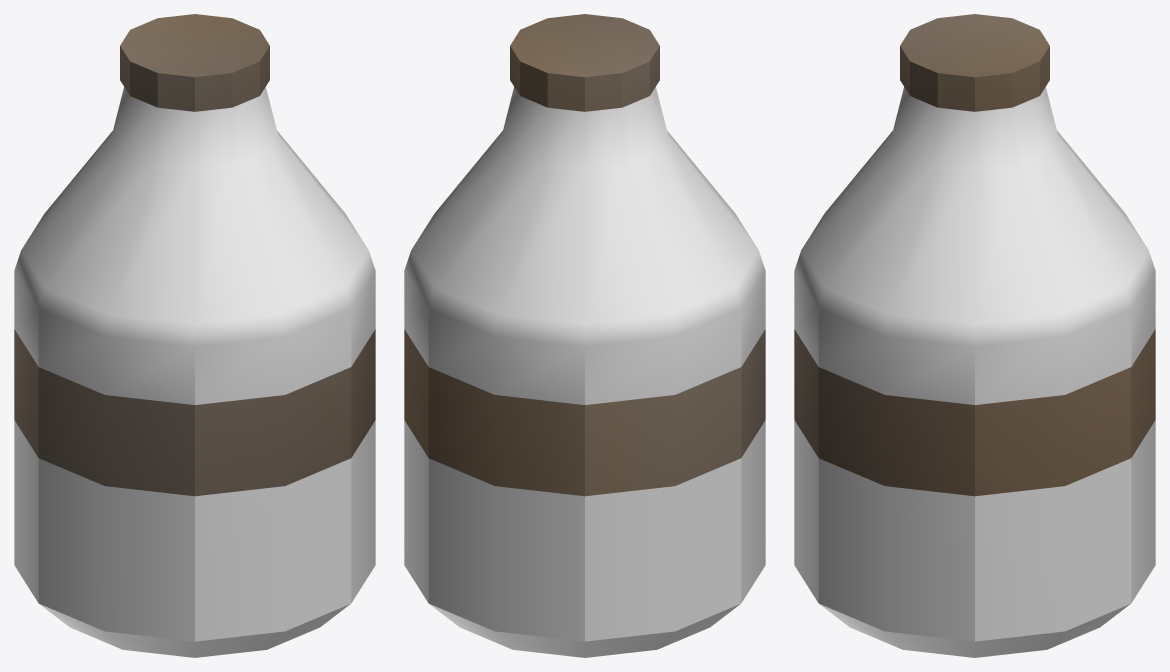
Rendered from Ürün67.fbx.
3 views of the same model, side by side, from view 1: azimuth 30°, elevation 25°; view 2: azimuth 150°, elevation 25°; view 3: azimuth 270°, elevation 25° (orthographic).
Parts seen in each view (by area): view 1: pCylinder44; view 2: pCylinder44; view 3: pCylinder44.
Part boxes in pixels (x1,y1,x2,y2): pCylinder44: (14,14,375,657); pCylinder44: (404,14,765,657); pCylinder44: (794,14,1155,657).
Size of the model in its own units: 22.2 by 37.39 by 22.2.
